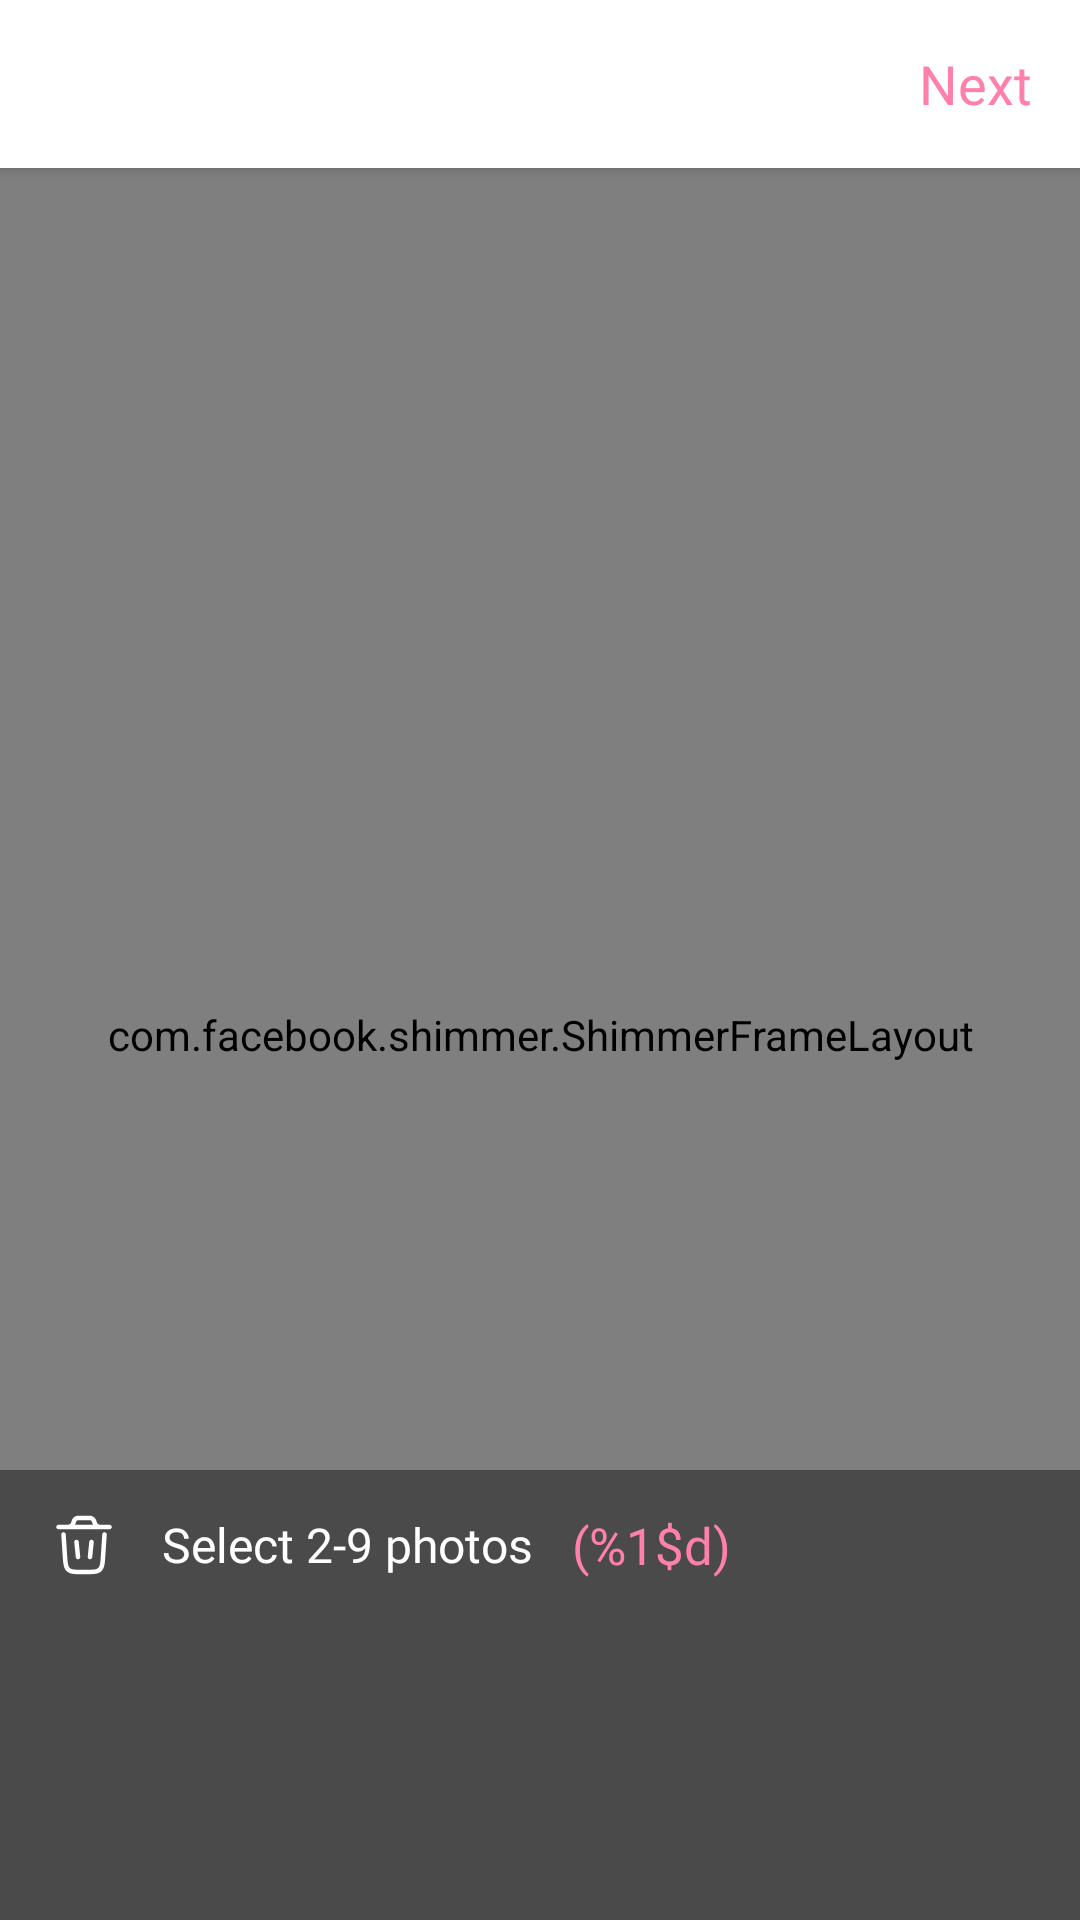

Where icons sit on this 1080×1920 app screen, as [x1,y1,x2,y2]:
trash: [56,1515,112,1575]
